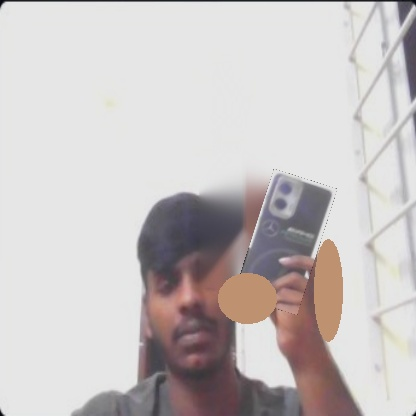cell_phone: (233, 168, 337, 315)
